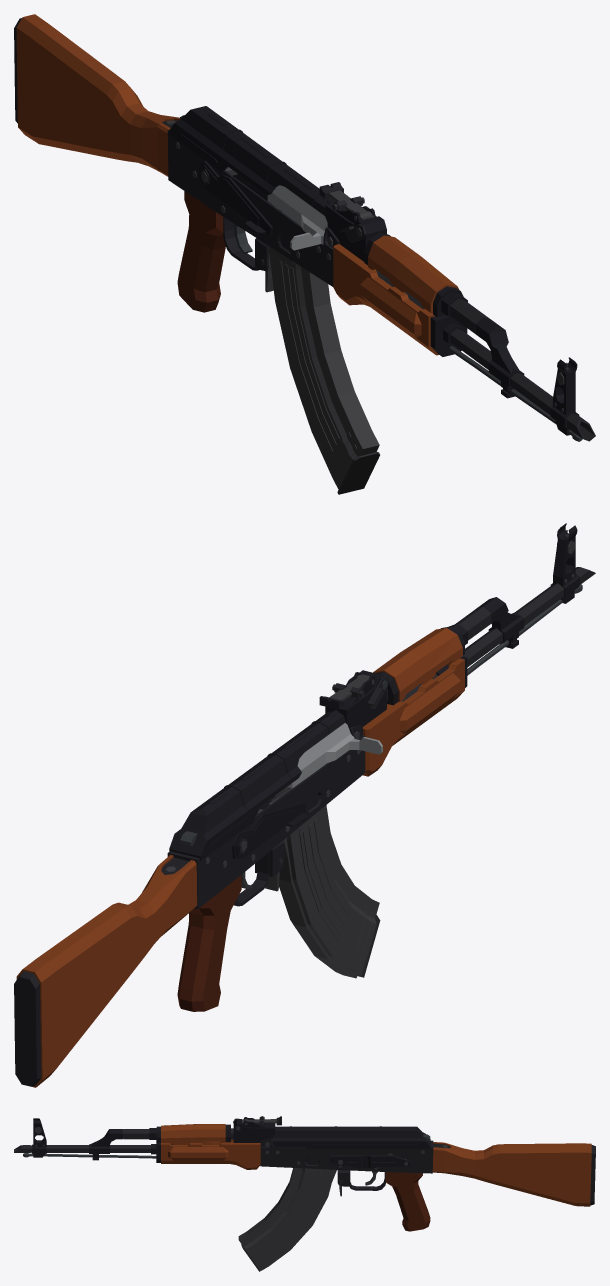
Rendered from akm.glb.
3 renders of one model, top to bottom at view 1: azimuth 30°, elevation 25°; view 2: azimuth 150°, elevation 25°; view 3: azimuth 270°, elevation 25°, orthographic. The views are drawn at different scales.
Parts seen in each view (by area): view 1: body_wood, body_steel, mag_magazine, body_receiver, body_bakelite, body_barrel, bolt_carrier, selector_steel, body_trigger, mag_magribs; view 2: body_wood, body_steel, body_receiver, mag_magazine, body_bakelite, body_barrel, bolt_carrier, selector_steel, body_trigger; view 3: body_wood, body_steel, mag_magazine, body_receiver, body_bakelite, body_barrel, body_trigger.
Part boxes in pixels (x1,y1,x2,y2): body_wood: (16, 14, 459, 355); body_steel: (169, 106, 579, 435); mag_magazine: (269, 216, 379, 489); body_receiver: (14, 18, 343, 286); body_bakelite: (177, 191, 225, 312); body_barrel: (334, 196, 595, 441); bolt_carrier: (267, 185, 327, 250); selector_steel: (199, 160, 273, 235); body_trigger: (180, 115, 582, 441); mag_magribs: (337, 452, 379, 494); body_wood: (16, 627, 464, 1087); body_steel: (169, 523, 579, 860); body_receiver: (14, 696, 365, 1086); mag_magazine: (268, 785, 379, 978); body_bakelite: (177, 875, 241, 1011); body_barrel: (334, 567, 595, 709); bolt_carrier: (287, 723, 382, 788); selector_steel: (232, 802, 307, 858); body_trigger: (180, 530, 582, 888); body_wood: (161, 1124, 591, 1206); body_steel: (32, 1117, 430, 1168); mag_magazine: (238, 1168, 336, 1270); body_receiver: (260, 1116, 595, 1205); body_bakelite: (385, 1172, 430, 1231); body_barrel: (14, 1116, 264, 1152); body_trigger: (23, 1123, 430, 1185).
Size of the model in its own units: 6.2 by 25.13 by 88.
